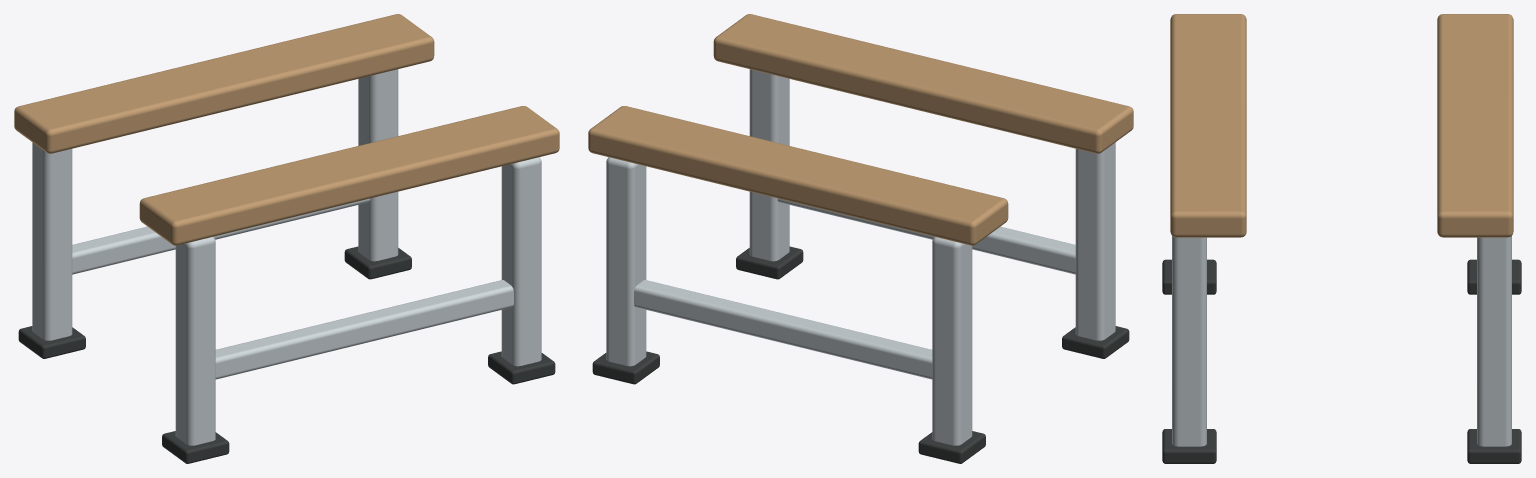
The model's file is beekeeping-and-honey-farm-hive-stand-1a73452a__30697.glb.
3 renders of one model, left to right at view 1: azimuth 30°, elevation 25°; view 2: azimuth 150°, elevation 25°; view 3: azimuth 270°, elevation 25°, orthographic. The views are drawn at different scales.
Visible parts, largest first — view 1: hive-stand; view 2: hive-stand; view 3: hive-stand.
Part boxes in pixels (x1,y1,x2,y2): hive-stand: (14,14,559,463); hive-stand: (588,14,1133,463); hive-stand: (1162,14,1521,463).
Bounding box in the file's own units: 0.75 × 0.445 × 0.565.
